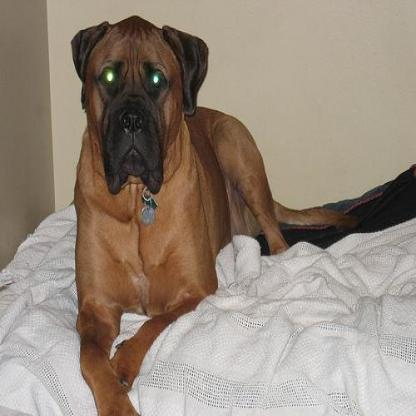bull_mastiff: (67, 11, 410, 413)
